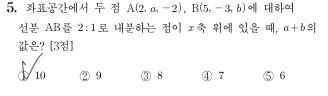choice: (15, 64, 31, 83)
not-choice: (261, 69, 274, 83), (78, 70, 90, 82), (139, 70, 151, 82), (200, 70, 212, 82)
